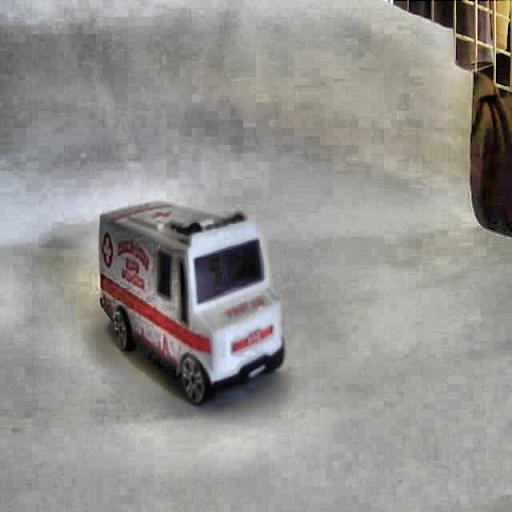ambulance: (98, 200, 284, 406)
